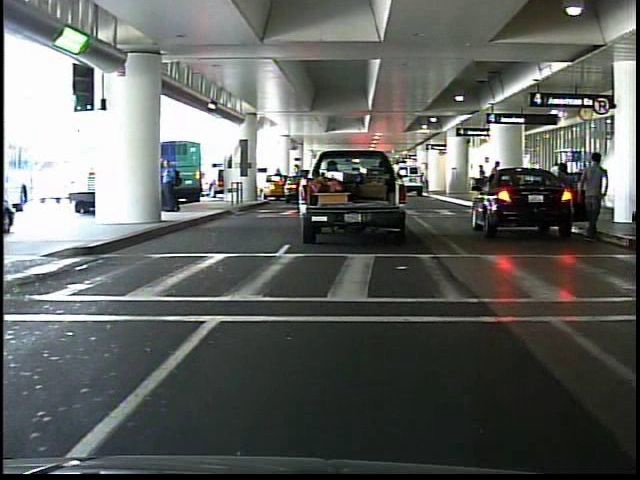person: (572, 150, 613, 243), (160, 149, 185, 216)
